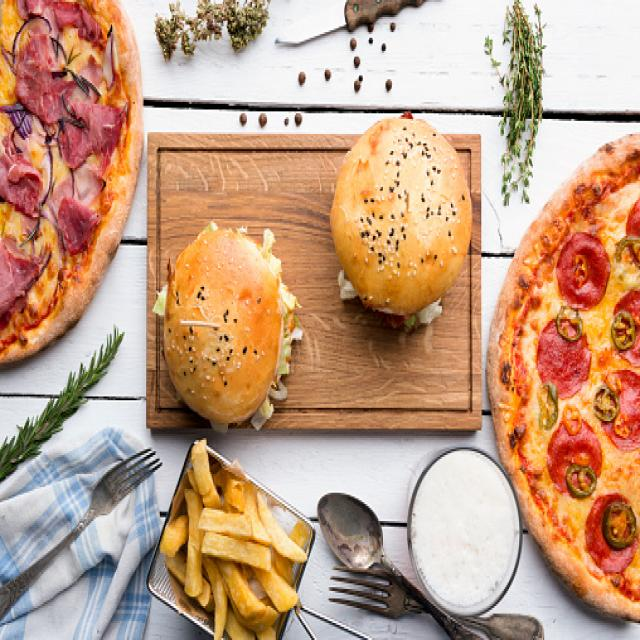burger: (328, 118, 474, 332), (160, 224, 301, 436)
pizza: (485, 128, 640, 626), (0, 0, 145, 373)
